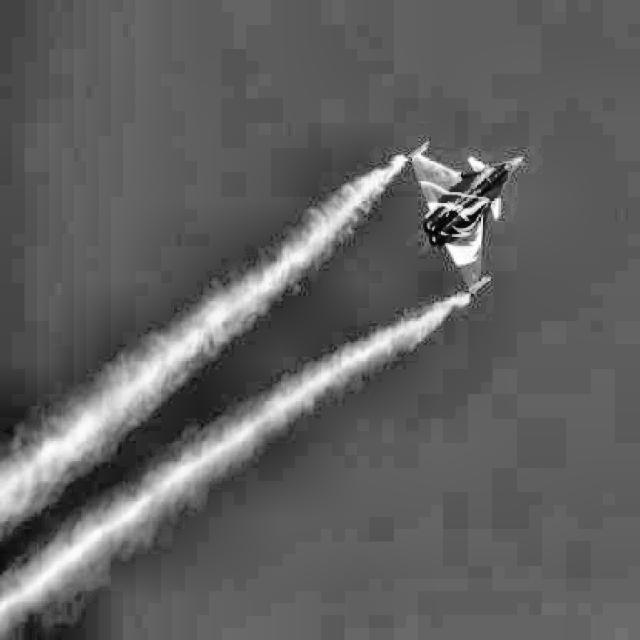Rafale: (407, 141, 525, 296)
